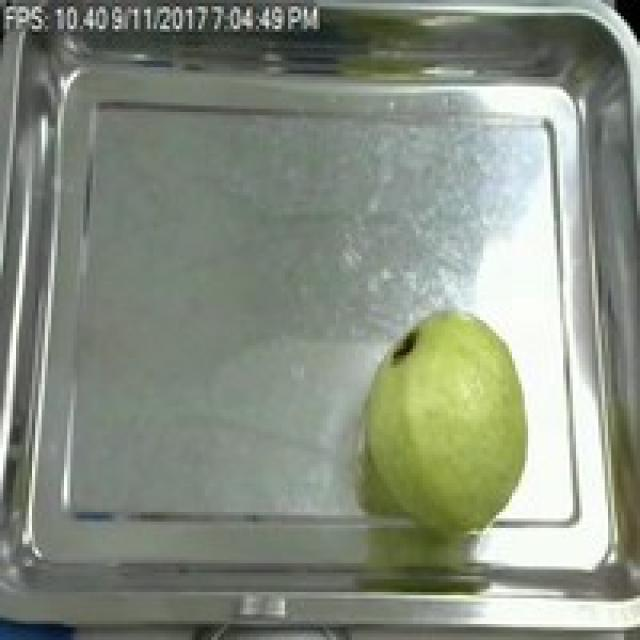Fruit: (349, 304, 544, 544)
